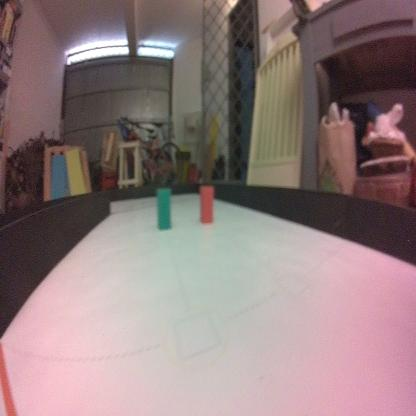green: (156, 186, 172, 232)
red: (198, 182, 214, 224)
